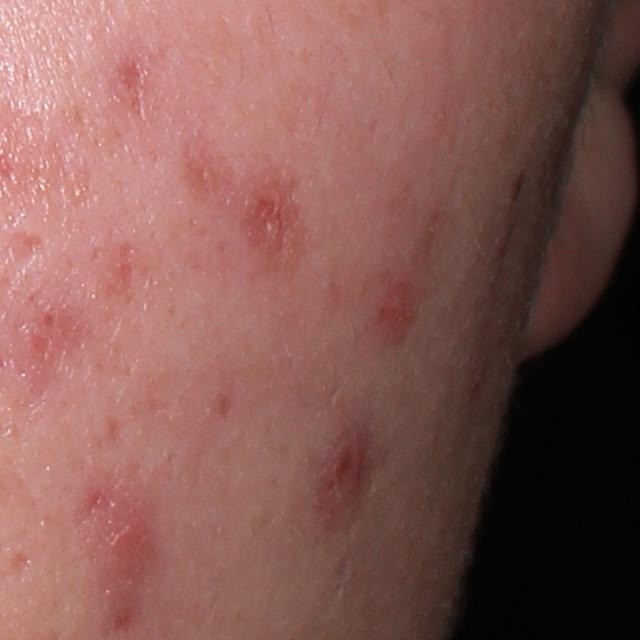atrophic_scar: (21, 299, 96, 387), (240, 179, 309, 269), (416, 198, 470, 288), (109, 230, 149, 313), (113, 55, 154, 121), (2, 234, 45, 274)
papule: (313, 438, 379, 530), (99, 496, 154, 571), (373, 285, 417, 341)
